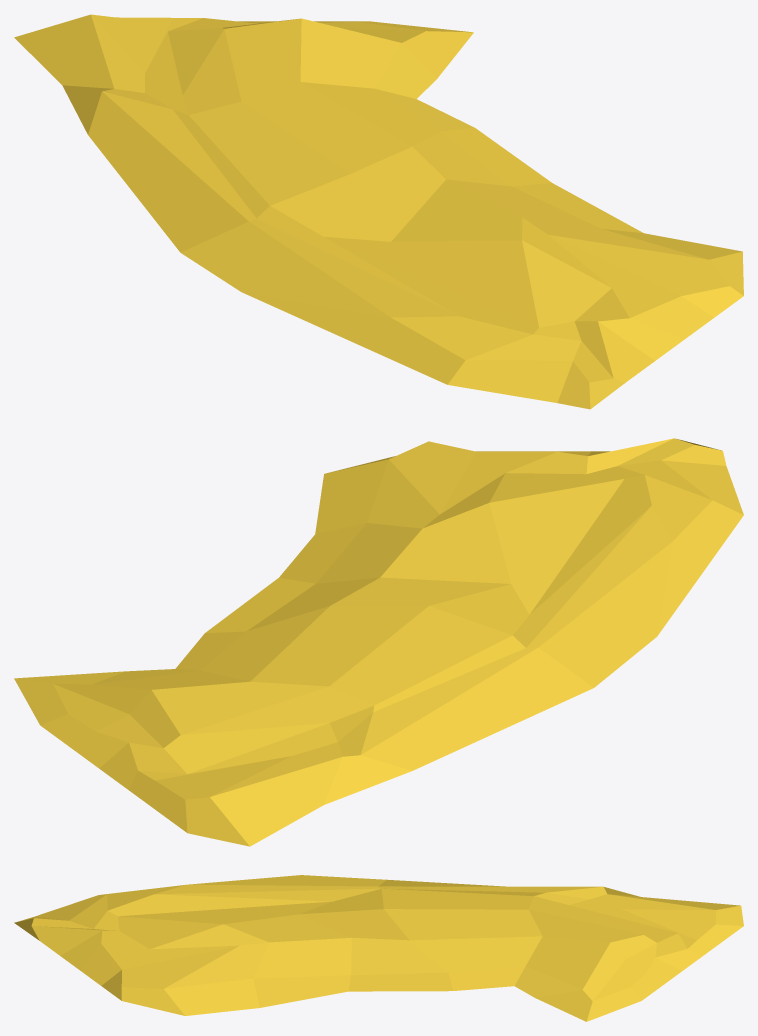
Rendered from street4_02_1.fbx.
The picture shows the model from 3 angles, top to bottom: view 1: azimuth 30°, elevation 25°; view 2: azimuth 150°, elevation 25°; view 3: azimuth 270°, elevation 25°; orthographic projection. The views are drawn at different scales.
Visible parts, largest first — view 1: sandWay02x04; view 2: sandWay02x04; view 3: sandWay02x04.
Part boxes in pixels (x1,y1,x2,y2): sandWay02x04: (14,14,743,409); sandWay02x04: (14,438,743,846); sandWay02x04: (14,875,743,1021).
Bounding box in the file's own units: 47.84 × 5.33 × 99.55.
